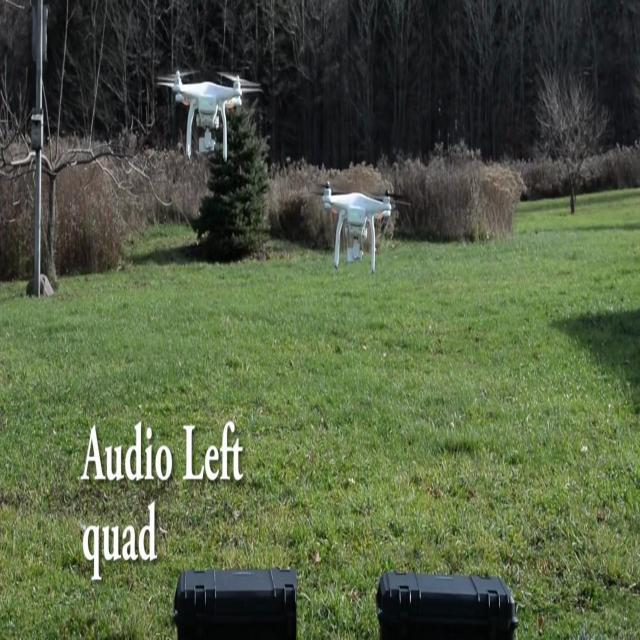drone: (301, 178, 413, 276), (155, 64, 264, 163)
